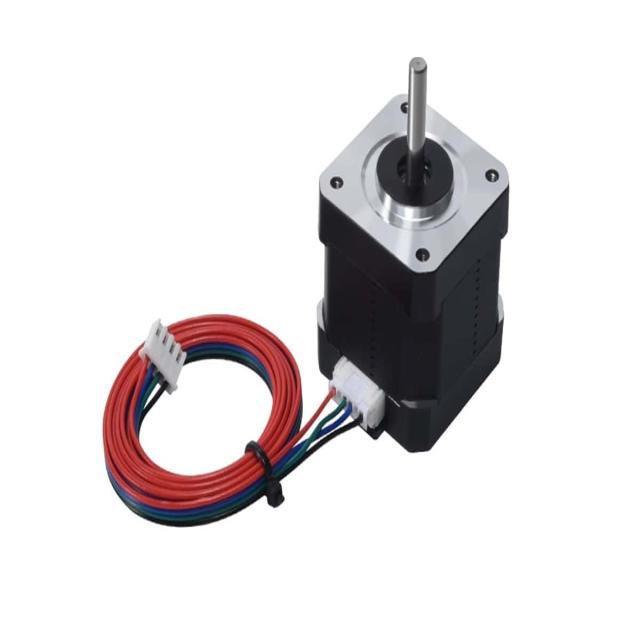motor: (315, 60, 510, 452)
